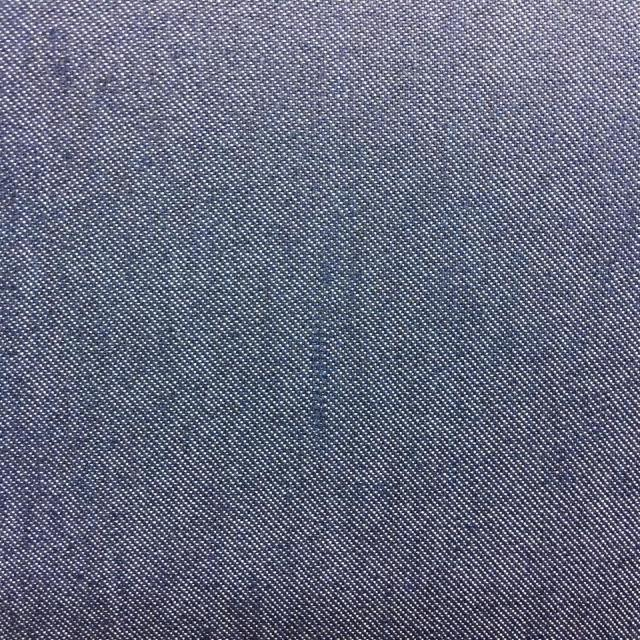Line: (308, 315, 329, 439)
